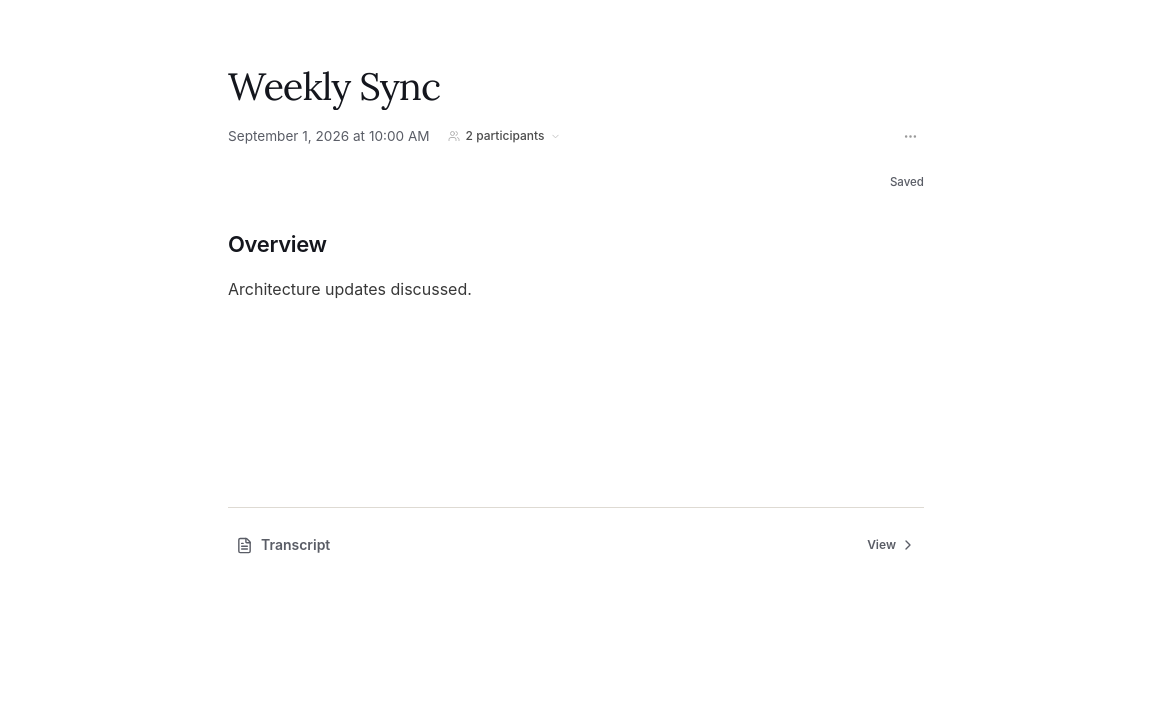
Test case: MeetingView Navigation and Participants › shows saved notes and names without fetching identity or entities again, and loads identity when participants open
The width and height of the screenshot is (1152, 720).
Later steps or results of the test are not shown.
Click the button "2 participants" at point(504, 136), box [442,126,567,146]
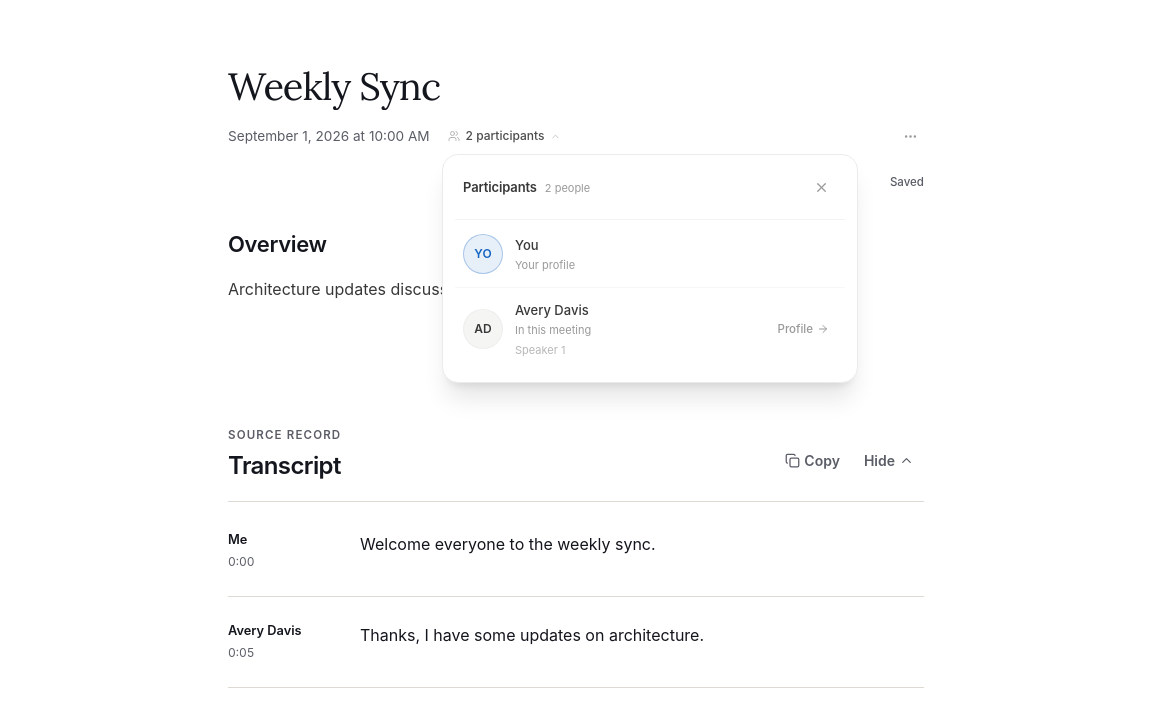
Check: the text "Avery Davis" is shown, box [514,302,588,318]
Check: the text "Thanks, I have some updates on architecture." is shown, box [360,625,704,645]
